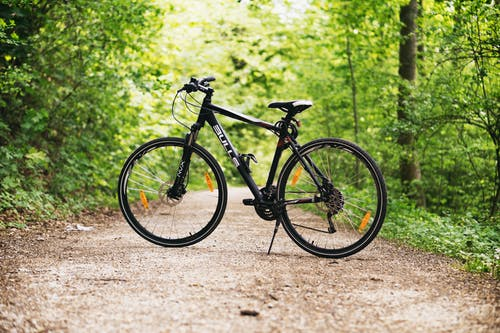bicycle: (114, 73, 390, 266)
